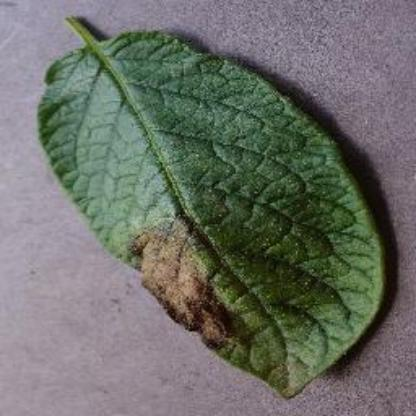Late-Blight: (31, 11, 395, 404)
